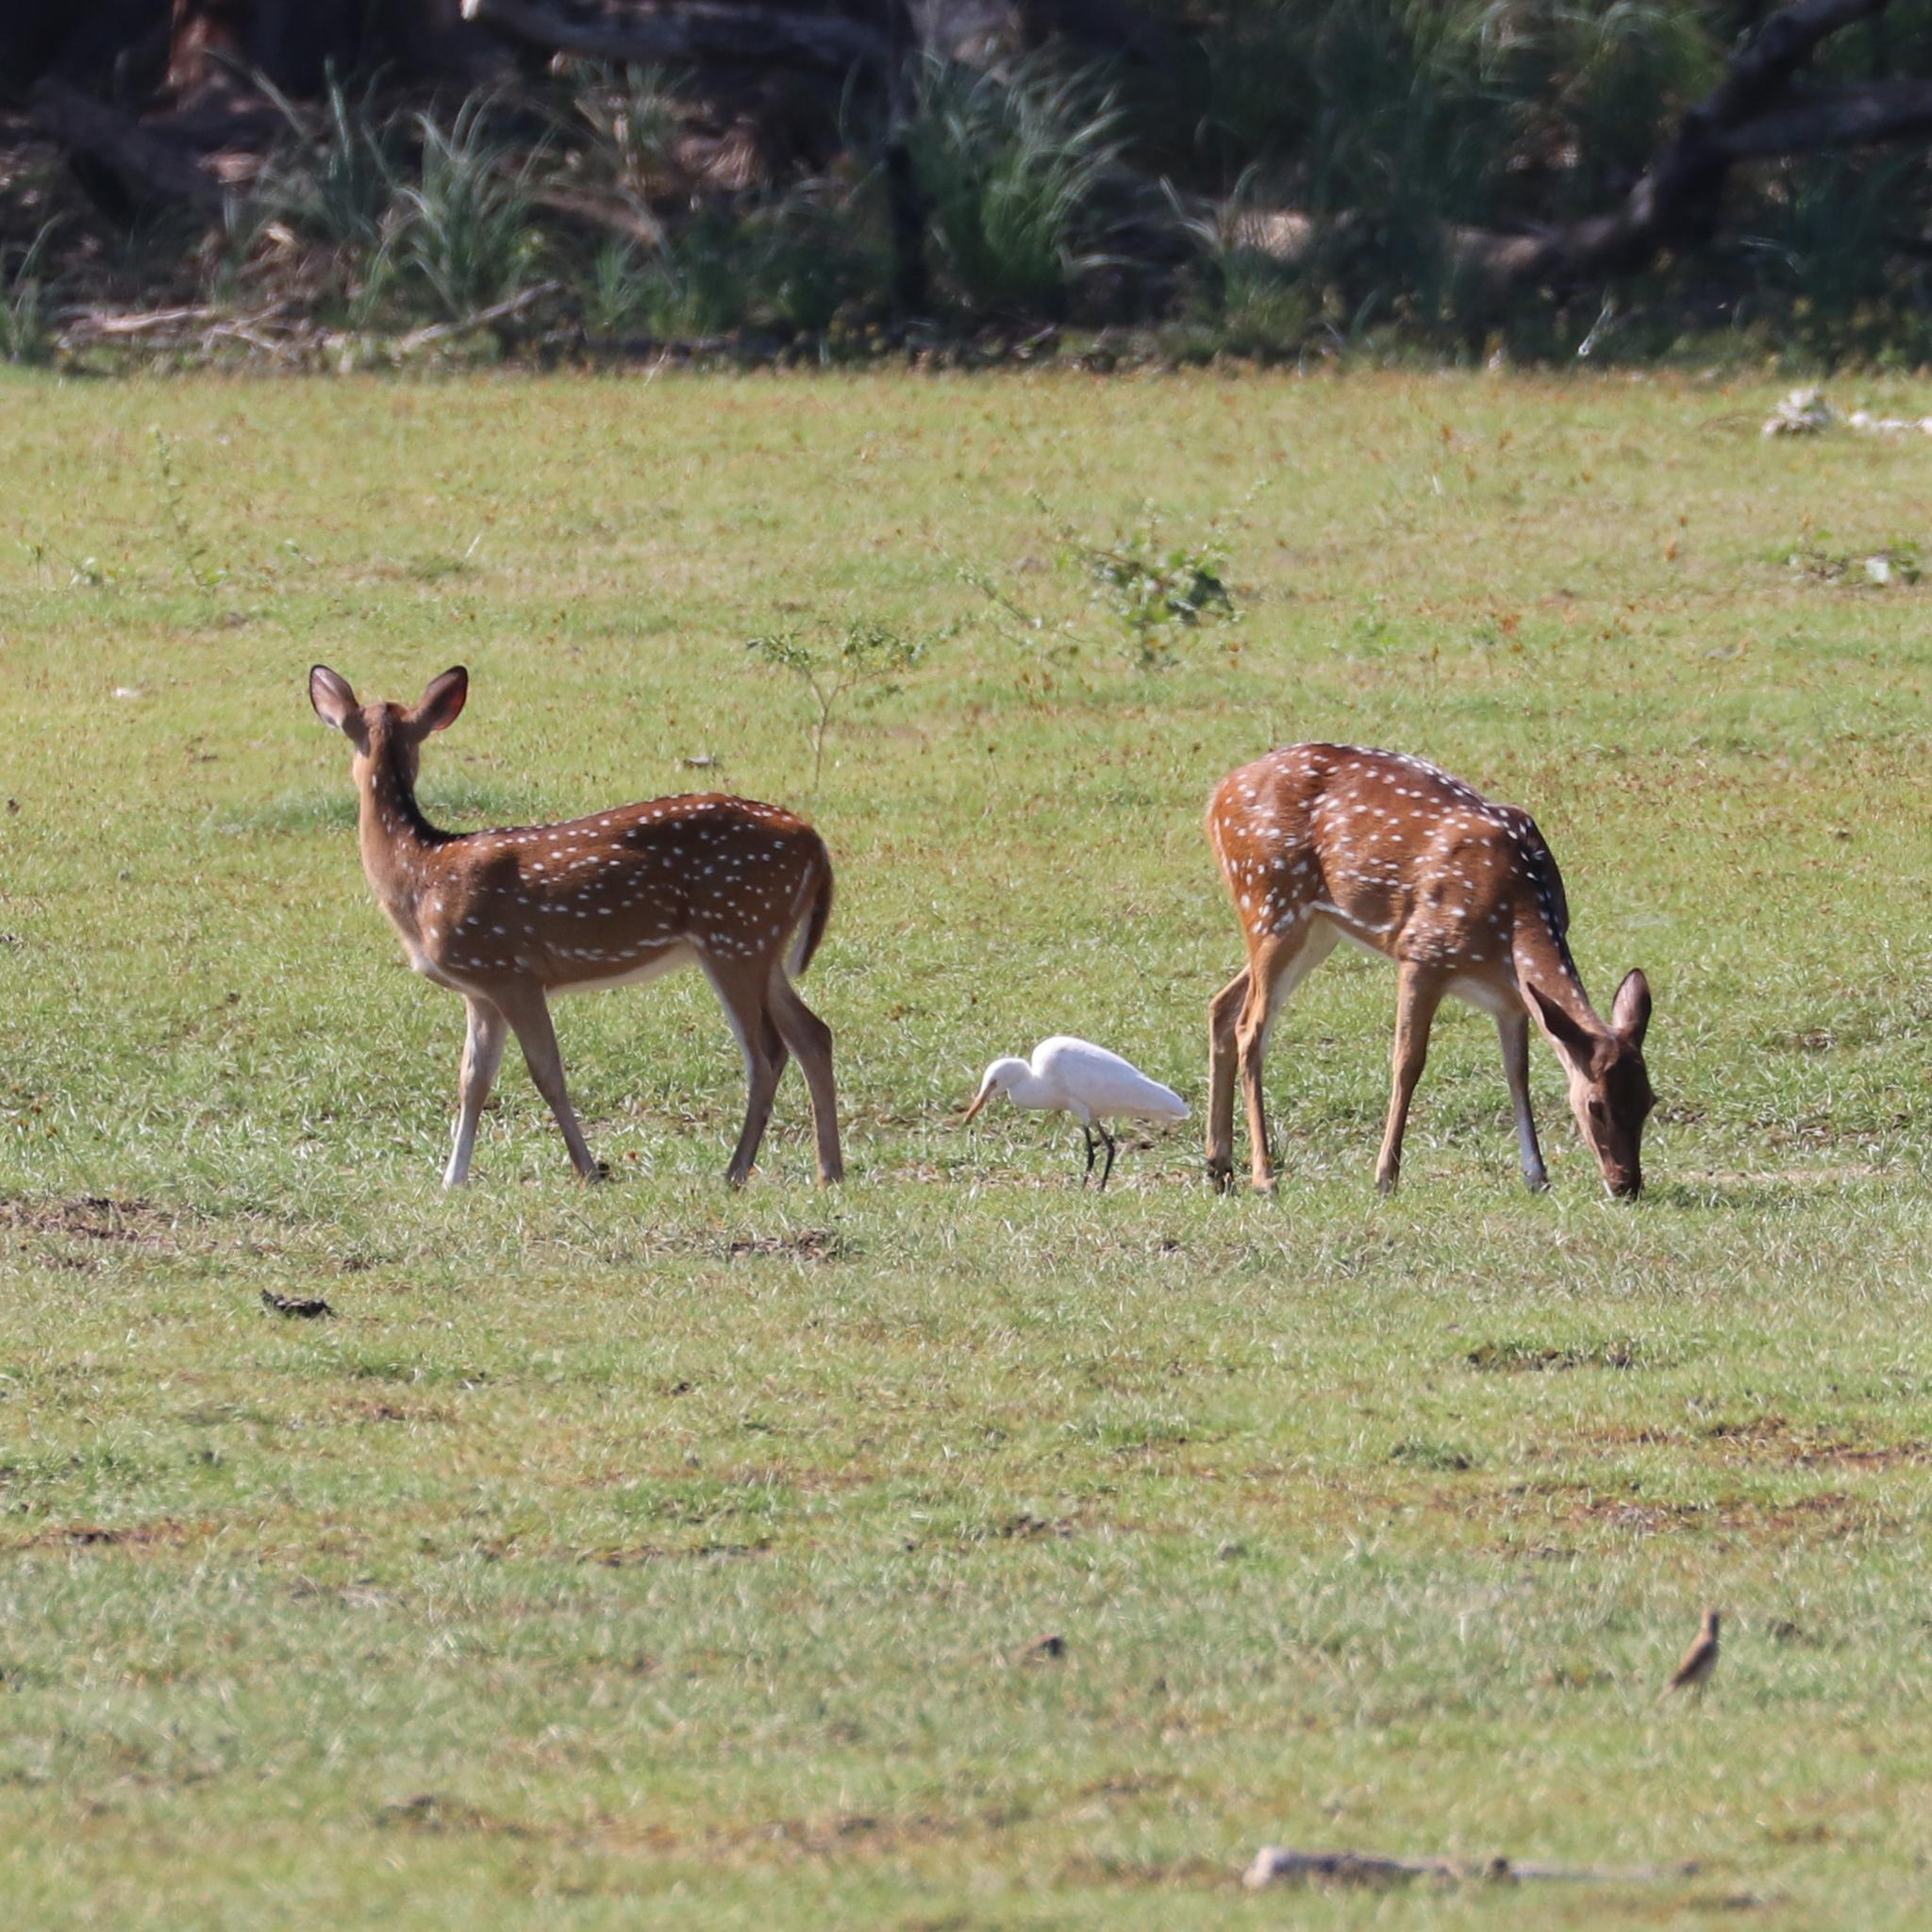Deer: (310, 665, 844, 1189), (1205, 743, 1652, 1198)
